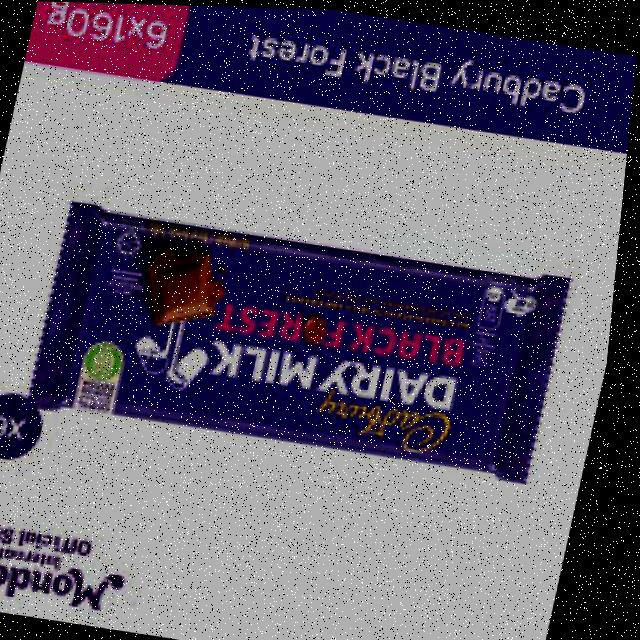cadbury: (26, 196, 582, 481)
